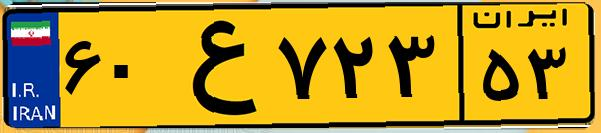0: (110, 28, 158, 98)
2: (330, 28, 385, 110)
3: (385, 28, 445, 110), (525, 38, 570, 115)
5: (475, 38, 525, 113)
6: (57, 26, 110, 100)
7: (270, 28, 330, 110)
ع: (158, 12, 270, 120)
